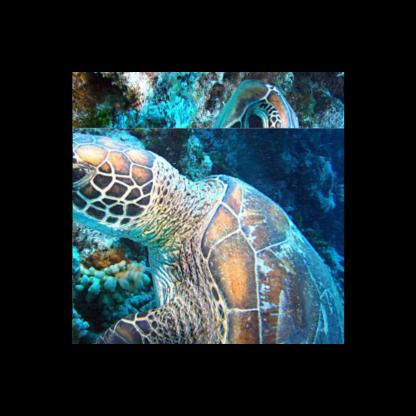turtle: (72, 100, 330, 342)
